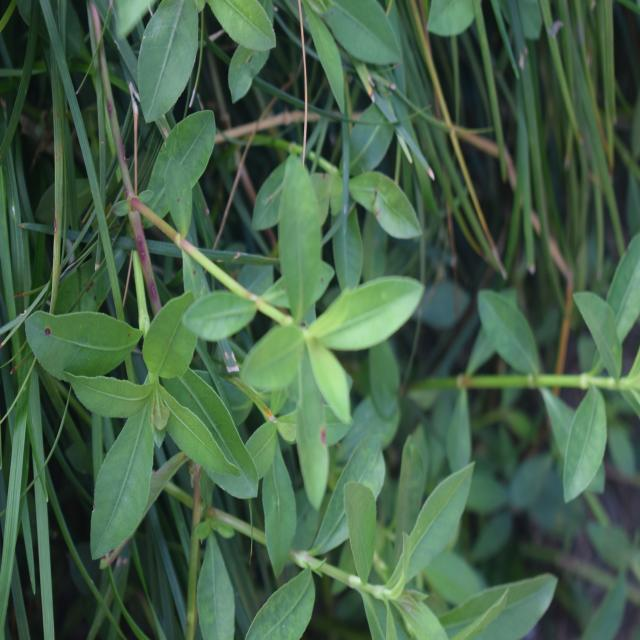Alligatorweed: (28, 260, 254, 537), (213, 192, 399, 510)
